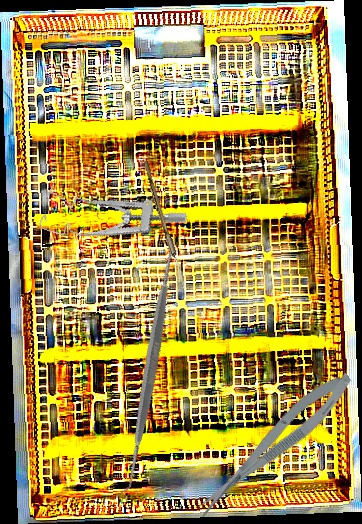Micro Scissor: (185, 364, 361, 523)
Spatula Surgical: (19, 233, 282, 497)
Speculum: (33, 168, 191, 272)
Surgical Spoon: (140, 160, 189, 289)
